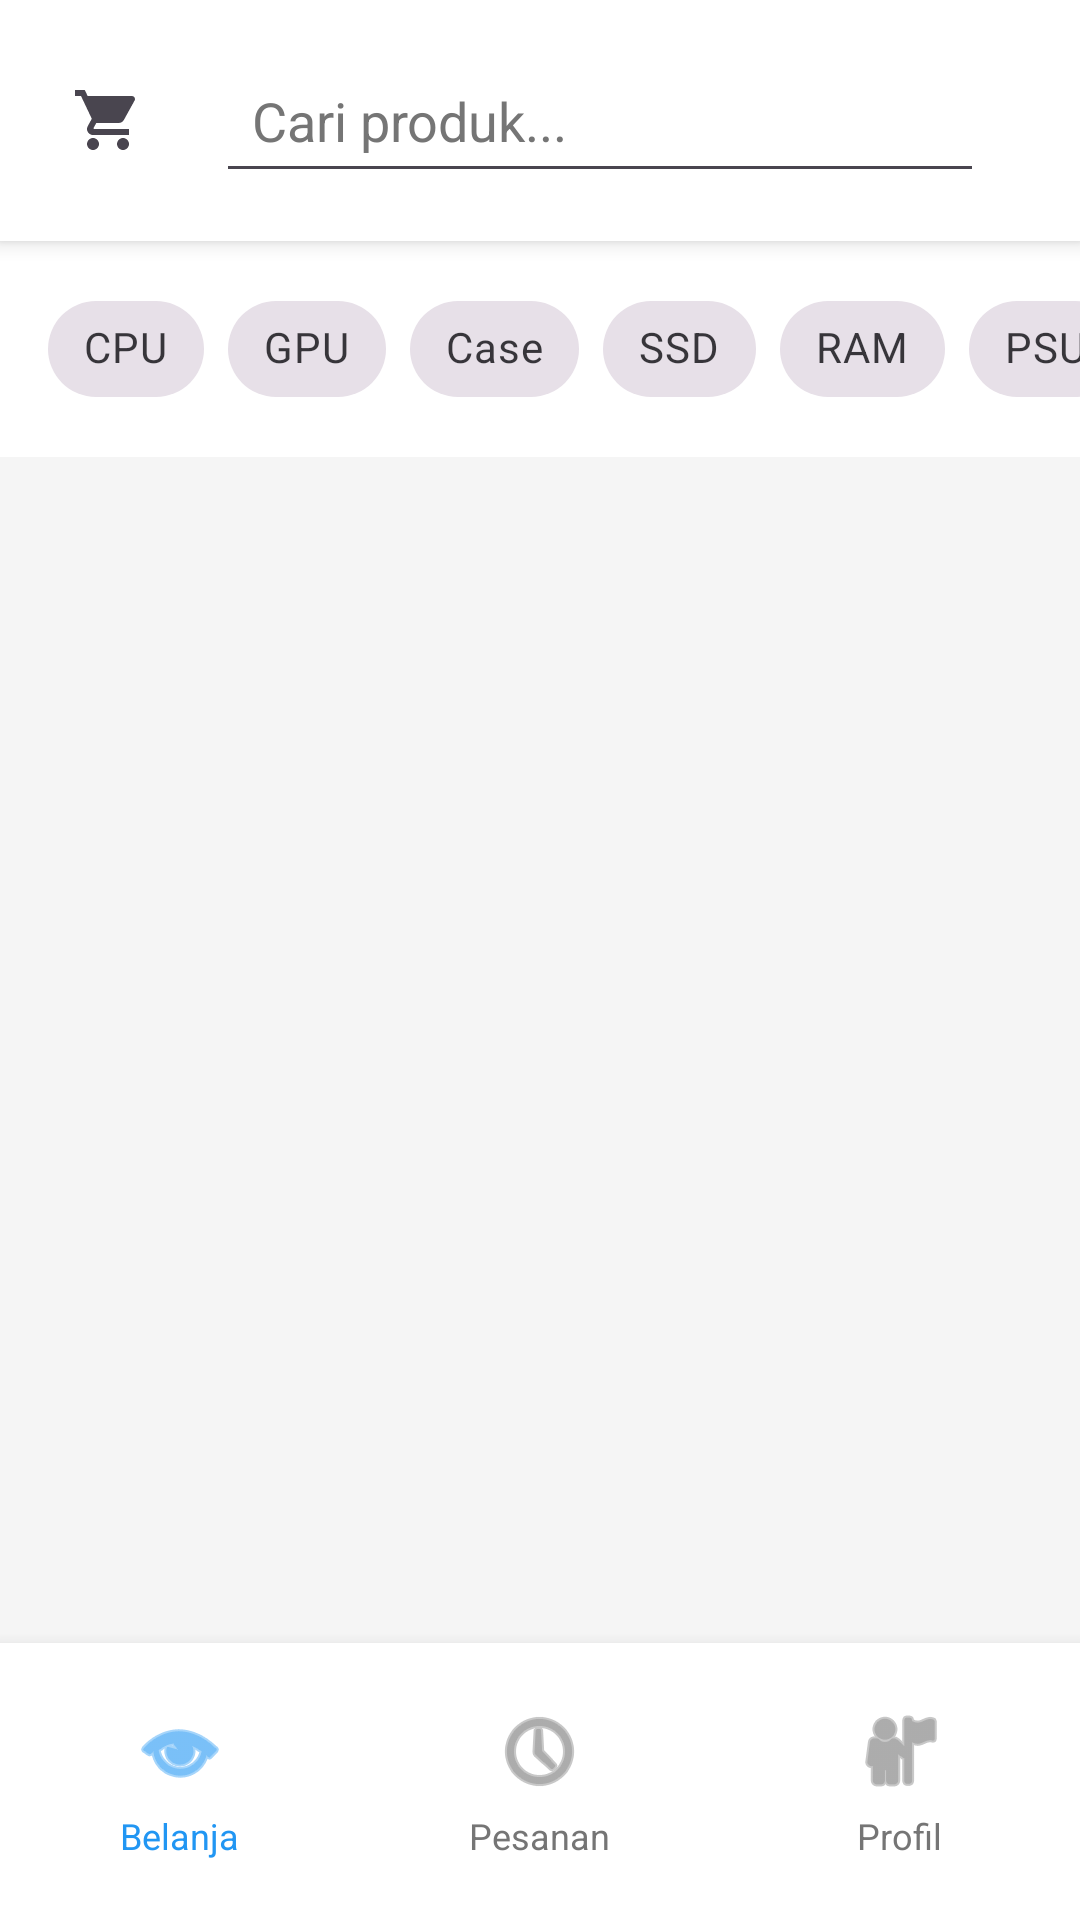

Locate icon controls on the screen. Image size 1080 x 1920, boxes as region(x1, y1, x2, y2).
Keranjang: region(75, 90, 135, 150)
